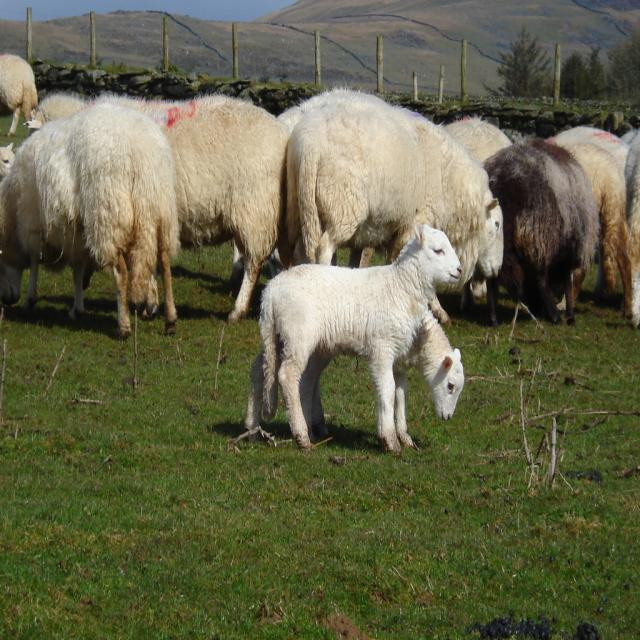Sheep: (0, 51, 640, 456)
